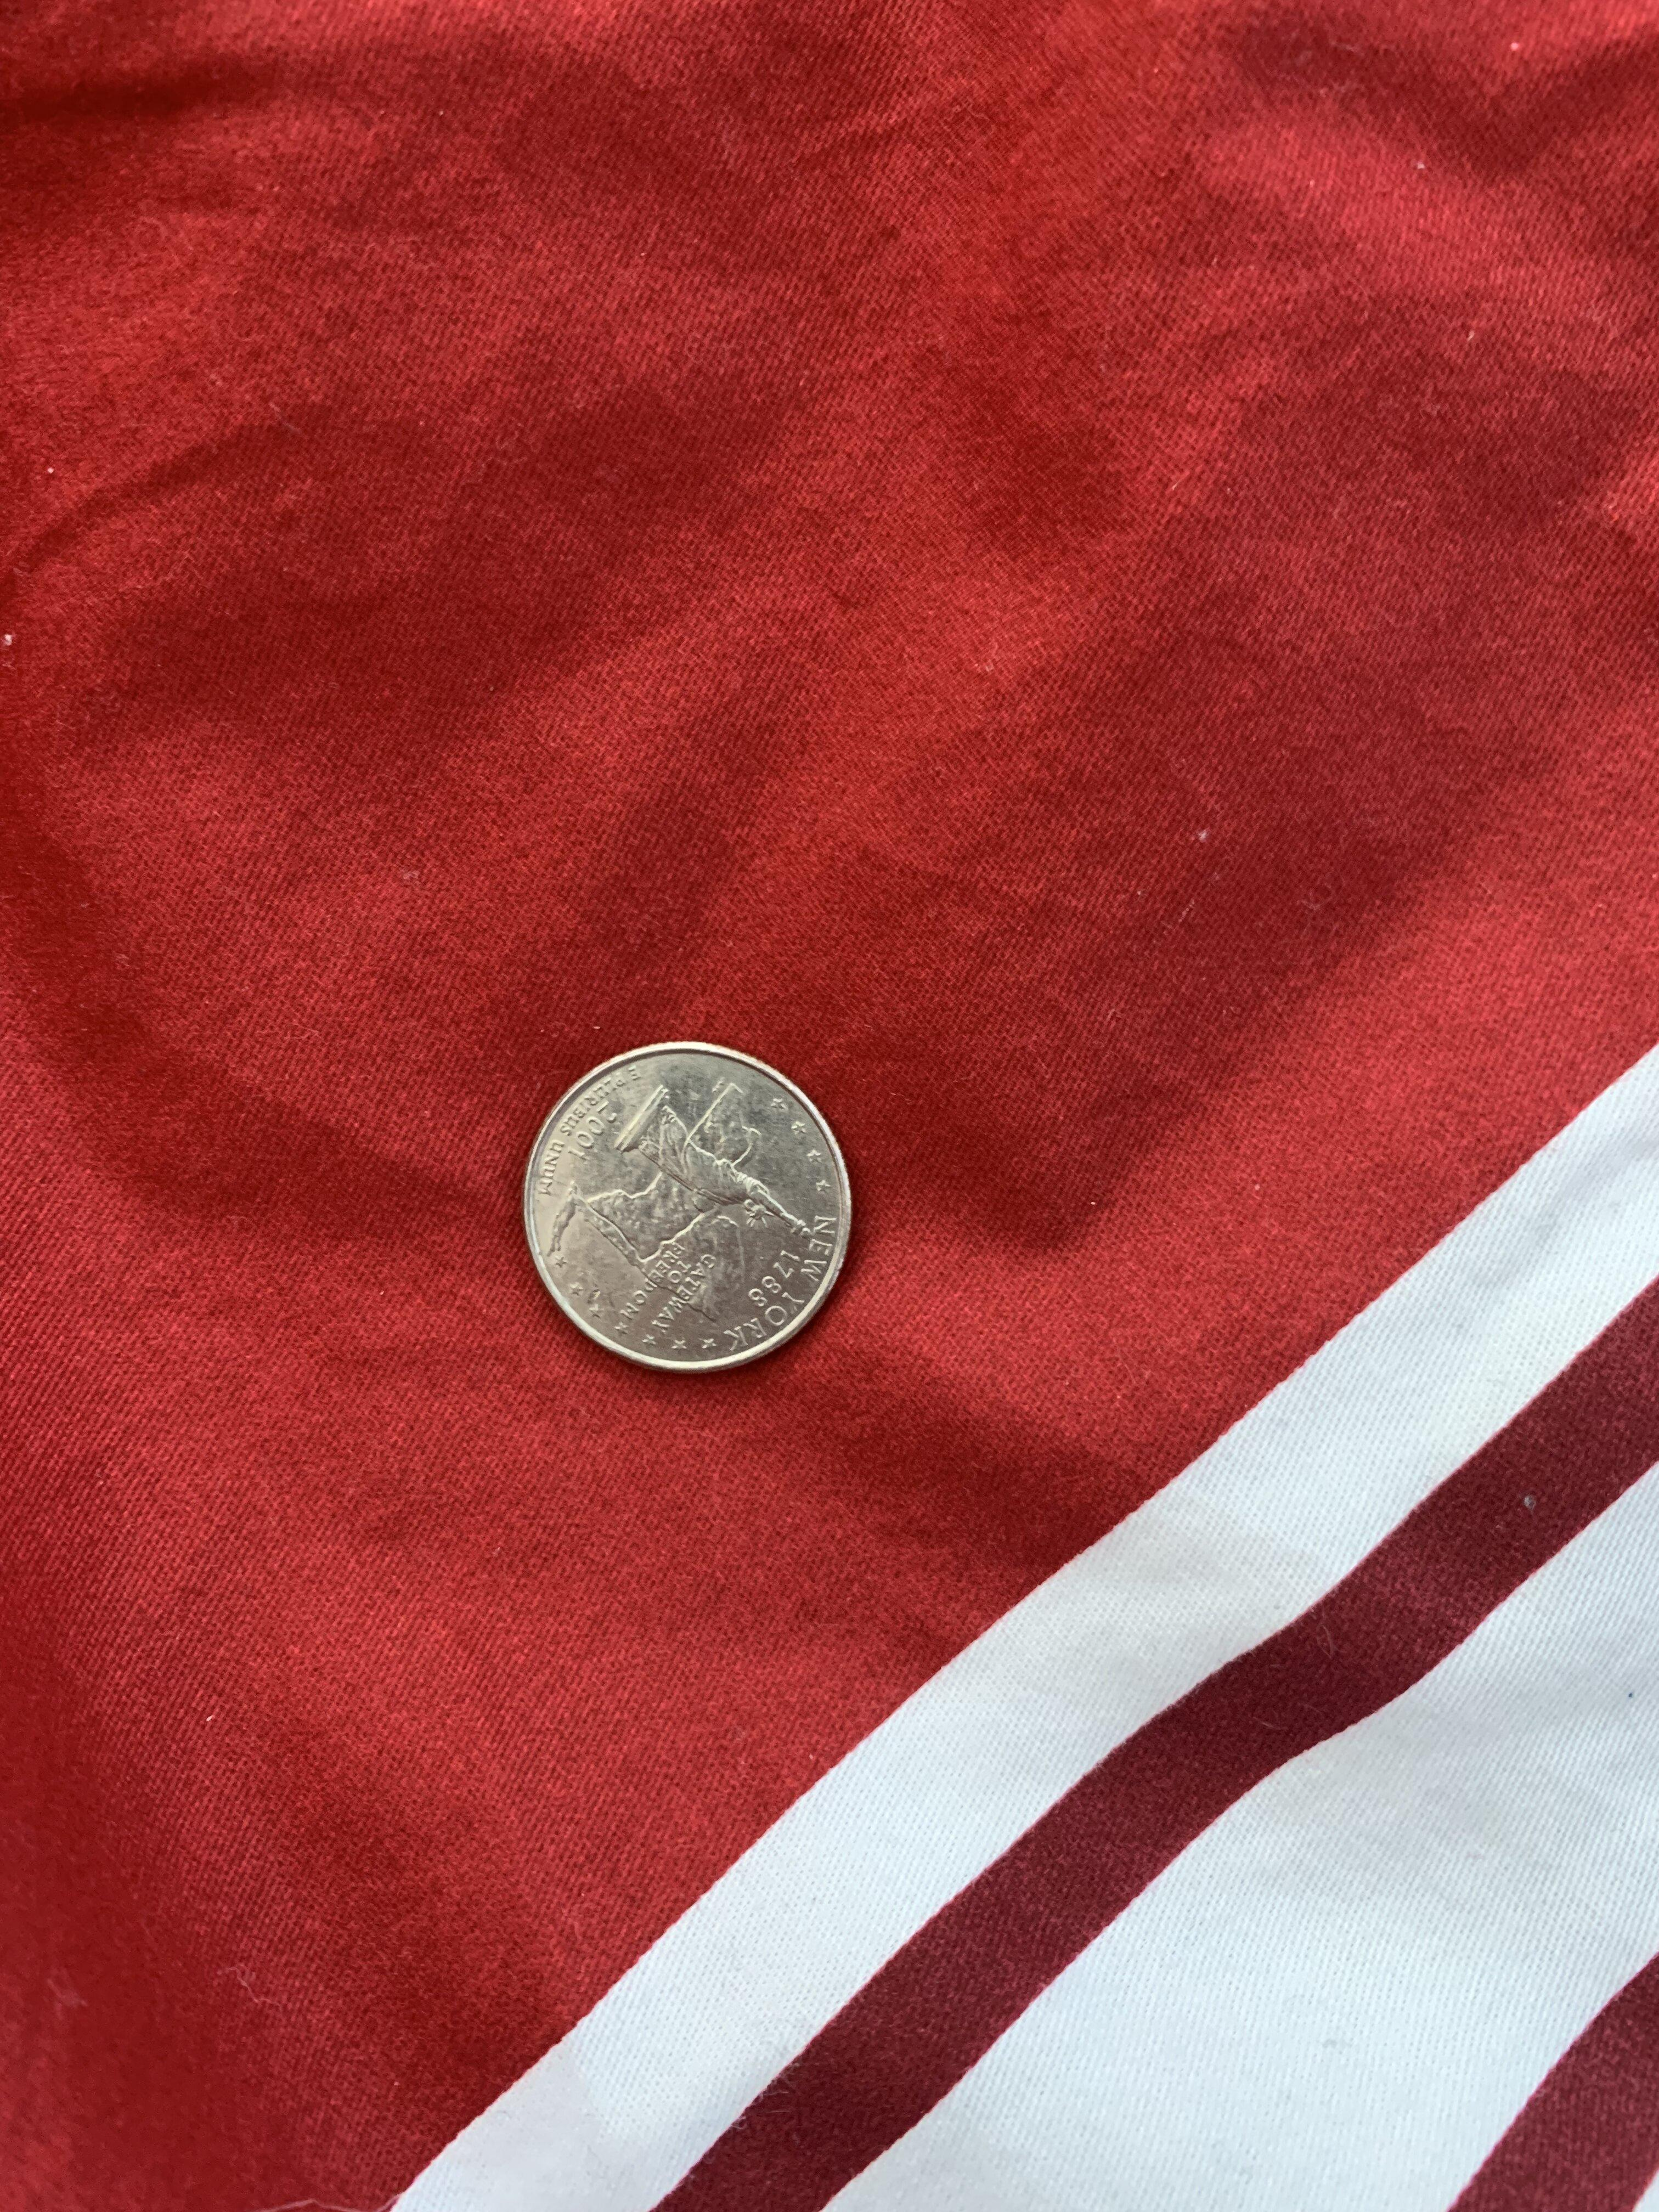Quarter: (469, 1007, 903, 1409)
